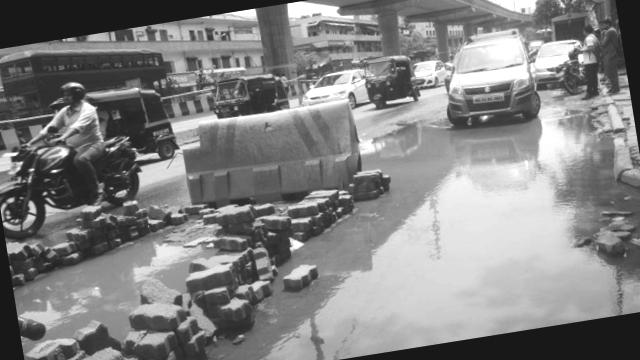Pothole: (313, 63, 640, 356), (1, 164, 335, 360)
